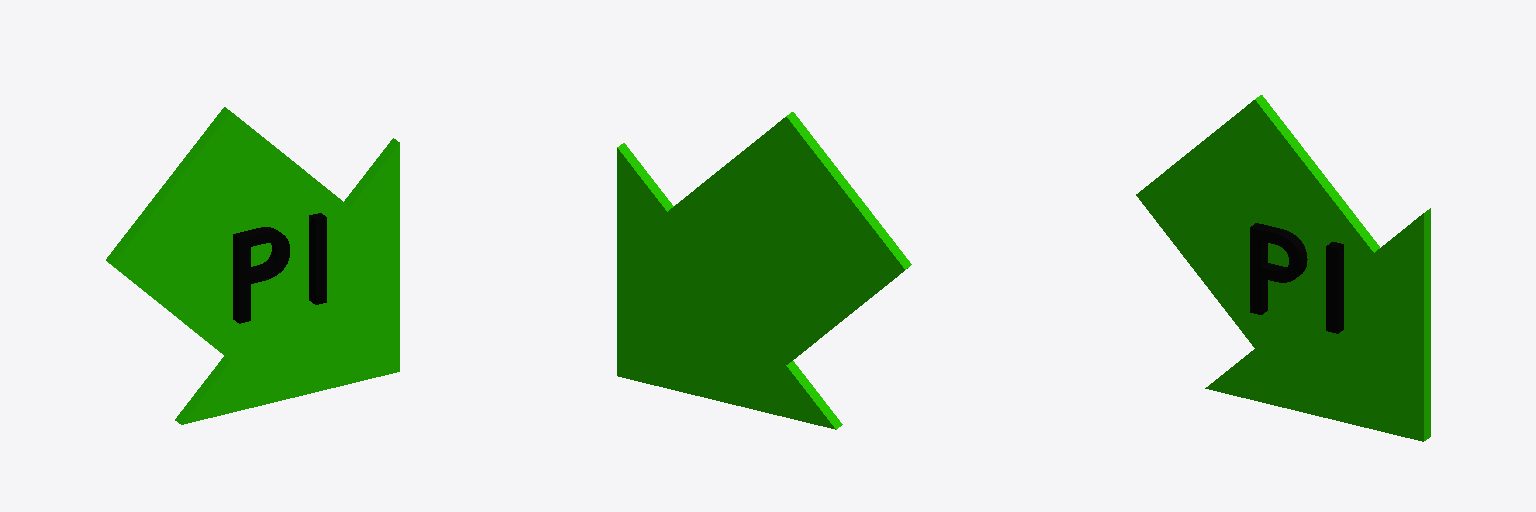
The model's file is Player1.obj.
3 renders of one model, left to right at view 1: azimuth 30°, elevation 25°; view 2: azimuth 150°, elevation 25°; view 3: azimuth 330°, elevation 25°, orthographic.
Visible parts, largest first — view 1: Cube, Text_Mesh; view 2: Cube; view 3: Cube, Text_Mesh.
Part boxes in pixels (bbox=[...]): Cube: bbox=[106, 107, 399, 424]; Text_Mesh: bbox=[233, 213, 326, 323]; Cube: bbox=[617, 112, 911, 429]; Cube: bbox=[1136, 95, 1430, 441]; Text_Mesh: bbox=[1250, 223, 1343, 333].
Size of the model in its own units: 2.42 by 2.42 by 0.1939.